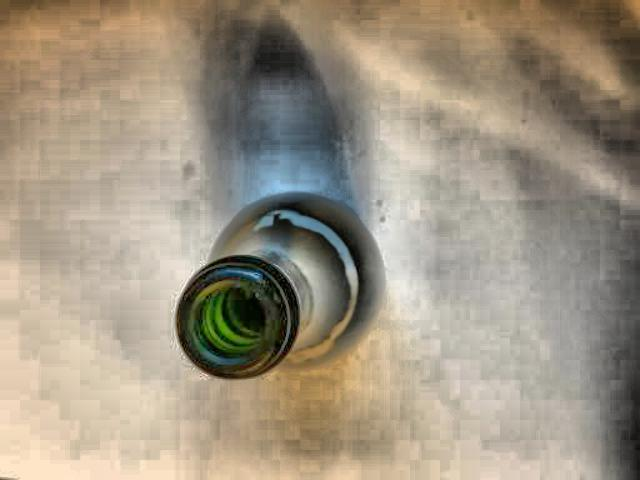Bottles: (159, 149, 423, 412)
